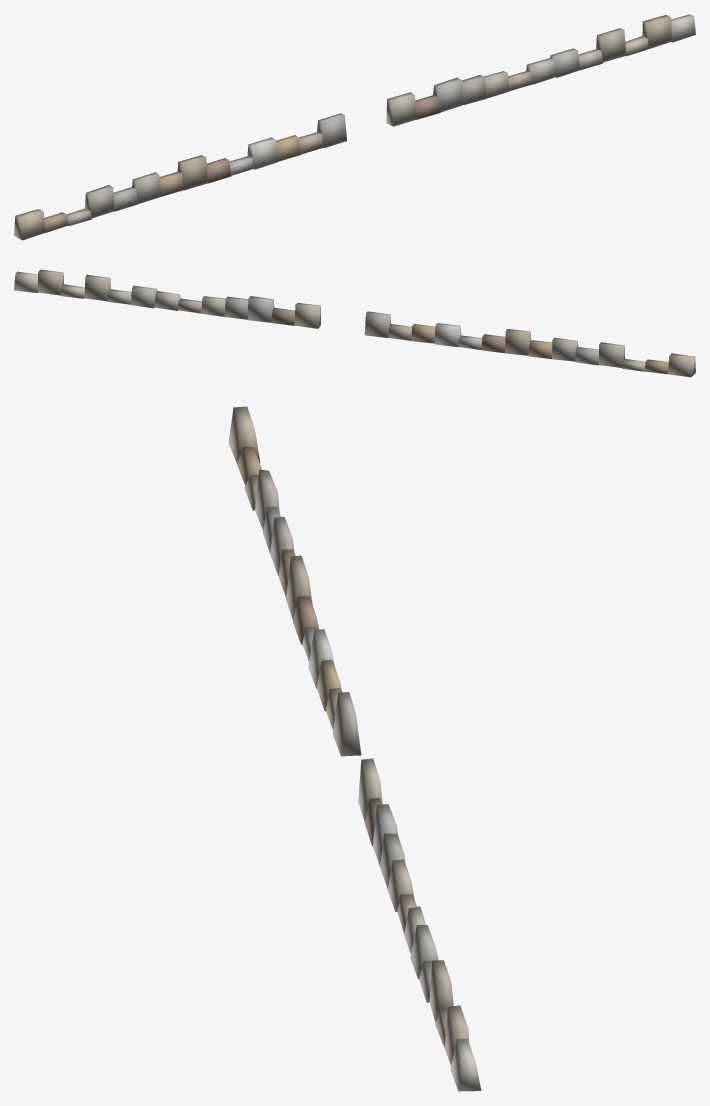
The model's file is farm_0_13_far.glb.
3 renders of one model, top to bottom at view 1: azimuth 30°, elevation 25°; view 2: azimuth 150°, elevation 25°; view 3: azimuth 270°, elevation 25°, orthographic. The views are drawn at different scales.
Visible parts, largest first — view 1: geometry_0; view 2: geometry_0; view 3: geometry_0.
Part boxes in pixels (<box>): geometry_0: <box>14,14,695,240</box>; geometry_0: <box>14,269,695,377</box>; geometry_0: <box>228,406,481,1091</box>.
Bounding box in the file's own units: 44.85 × 2.74 × 7.91.
